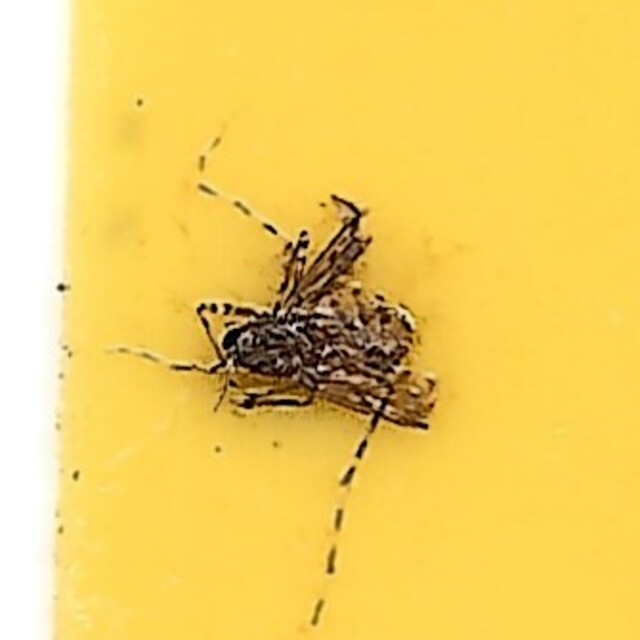Nematocera: (191, 191, 449, 449)
